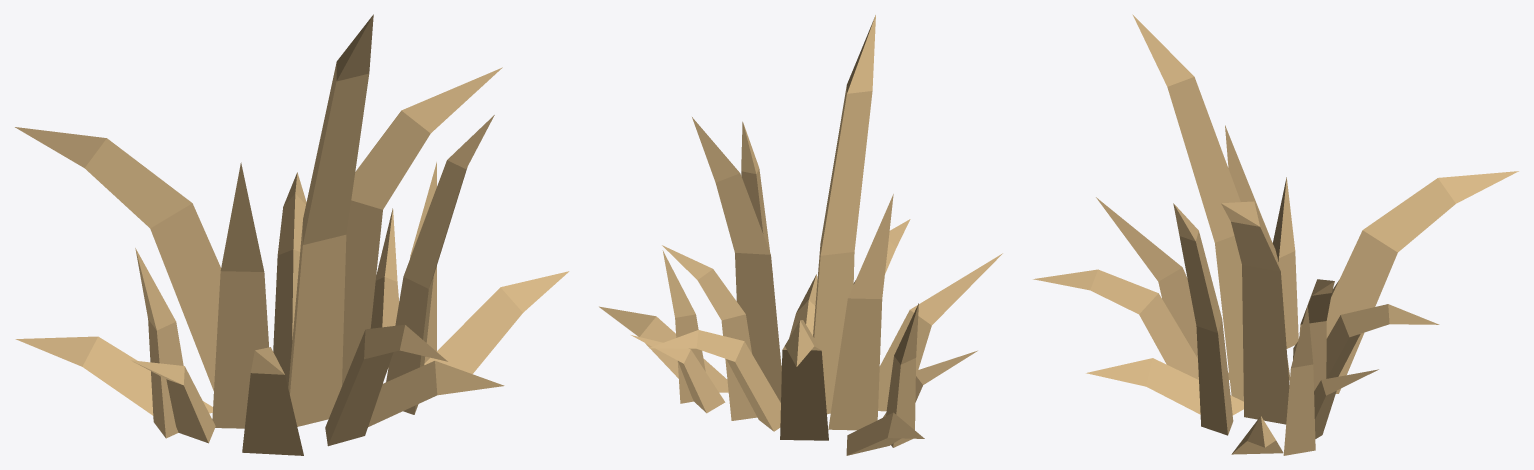
The model's file is Mega_Asset_s_Pack_Cylinder_013.FBX.
The picture shows the model from 3 angles, left to right: view 1: azimuth 30°, elevation 25°; view 2: azimuth 150°, elevation 25°; view 3: azimuth 270°, elevation 25°; orthographic projection. The views are drawn at different scales.
Visible parts, largest first — view 1: Mega_Asset_s_Pack_Cylinder_013; view 2: Mega_Asset_s_Pack_Cylinder_013; view 3: Mega_Asset_s_Pack_Cylinder_013.
Part boxes in pixels (bbox=[...]): Mega_Asset_s_Pack_Cylinder_013: bbox=[15, 14, 569, 455]; Mega_Asset_s_Pack_Cylinder_013: bbox=[599, 15, 1002, 455]; Mega_Asset_s_Pack_Cylinder_013: bbox=[1033, 14, 1518, 455].
Size of what is drawn, in the model's own units: 110 by 114 by 98.35.
